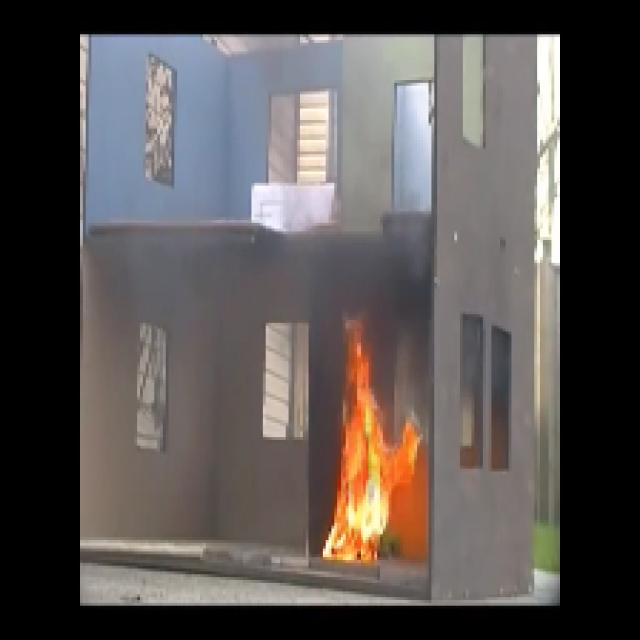fire: (336, 375, 412, 561)
